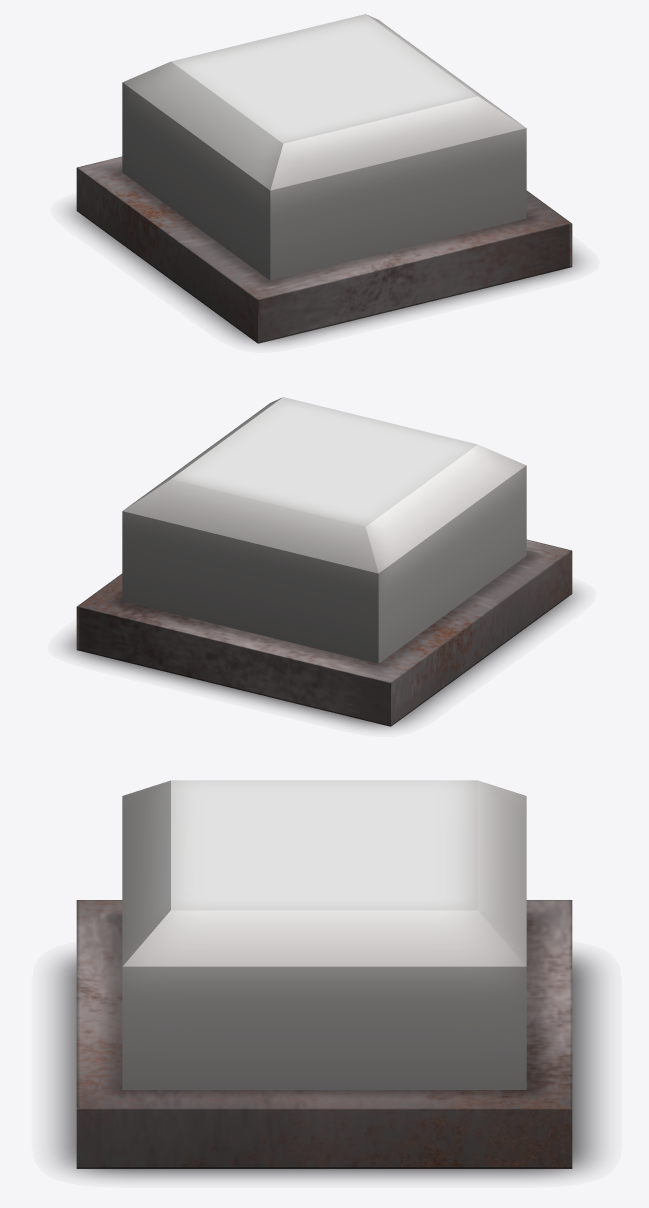
File: button.glb
3 renders of one model, top to bottom at view 1: azimuth 30°, elevation 25°; view 2: azimuth 150°, elevation 25°; view 3: azimuth 270°, elevation 25°, orthographic. The views are drawn at different scales.
Parts seen in each view (by area): view 1: button, buttonBase, shadow1; view 2: button, buttonBase, shadow1; view 3: button, buttonBase, shadow1.
Boxes of the visible parts, left/top/right/bottom form: button: left=122, top=14, right=526, bottom=280; buttonBase: left=76, top=156, right=572, bottom=343; shadow1: left=67, top=202, right=583, bottom=345; button: left=122, top=397, right=526, bottom=663; buttonBase: left=76, top=539, right=572, bottom=726; shadow1: left=64, top=587, right=579, bottom=729; button: left=122, top=780, right=526, bottom=1089; buttonBase: left=76, top=900, right=572, bottom=1168; shadow1: left=51, top=951, right=602, bottom=1179.
Size of what is drawn, in the model's own units: 0.3818 by 0.1485 by 0.3818.
Materials: 3 (3 with a texture image).
